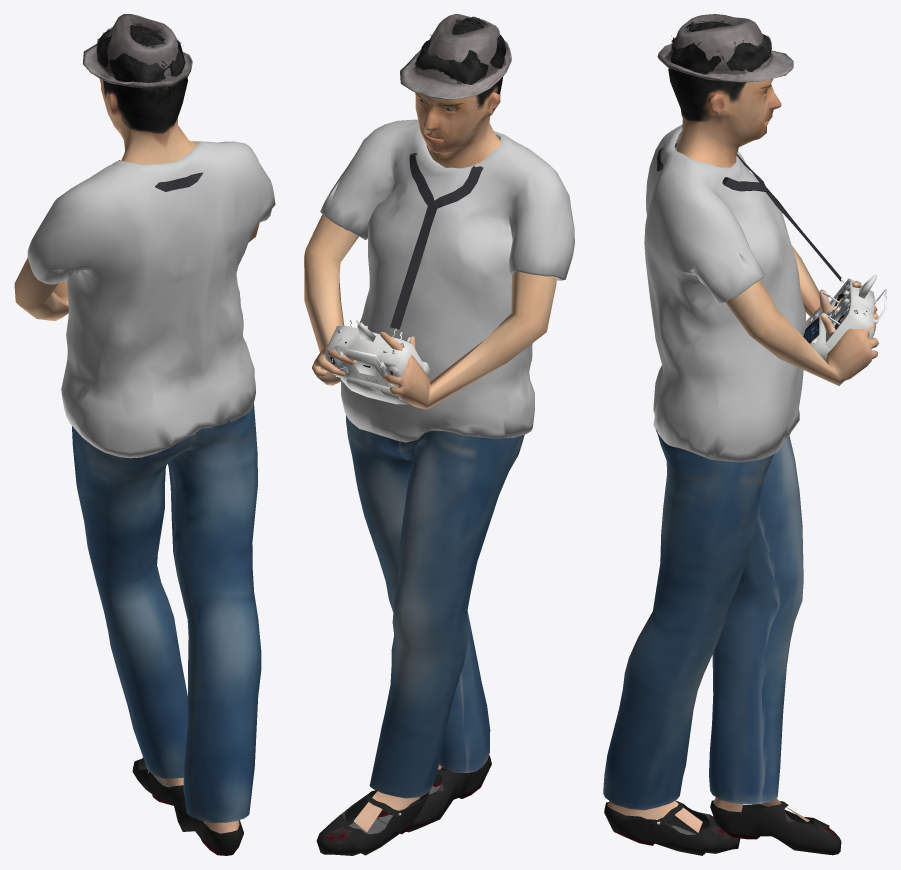
The model's file is veteran_cap_pilot.glb.
The picture shows the model from 3 angles, left to right: view 1: azimuth 30°, elevation 25°; view 2: azimuth 150°, elevation 25°; view 3: azimuth 270°, elevation 25°; orthographic projection.
Parts seen in each view (by area): view 1: Human_atlas; view 2: Human_atlas; view 3: Human_atlas.
Boxes of the visible parts, x1=… form: Human_atlas: x1=14, y1=14, x2=275, y2=855; Human_atlas: x1=304, y1=14, x2=574, y2=855; Human_atlas: x1=603, y1=14, x2=886, y2=855.
Bounding box in the file's own units: 0.5411 × 1.74 × 0.5559.
1 material, 1 textured.
